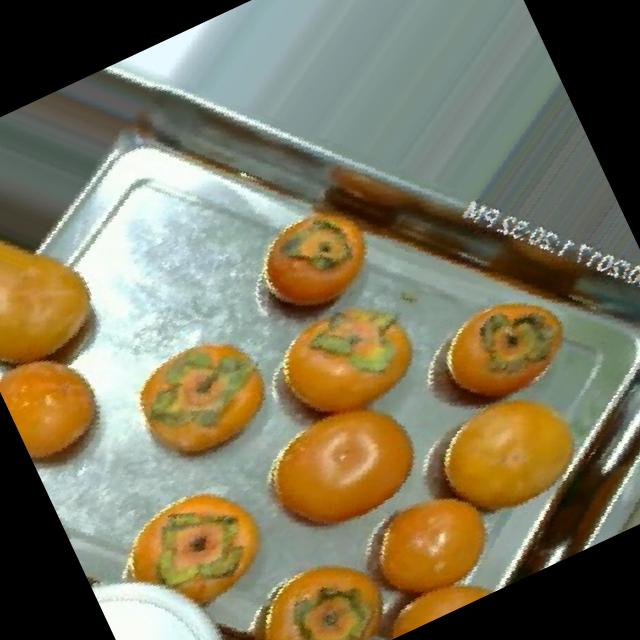Fruit: (214, 352, 458, 576), (390, 342, 628, 562), (378, 246, 610, 446), (224, 262, 456, 462), (81, 447, 306, 640), (97, 298, 309, 498), (316, 453, 530, 640), (0, 168, 147, 410), (223, 172, 411, 349), (0, 314, 141, 486)
